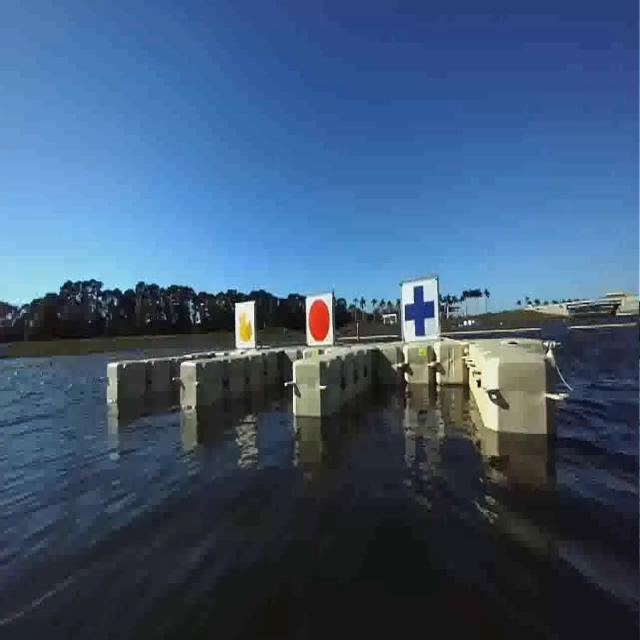blue-cross: (399, 272, 443, 342)
red-dot: (305, 292, 336, 351)
yellow-duck: (232, 297, 257, 348)
